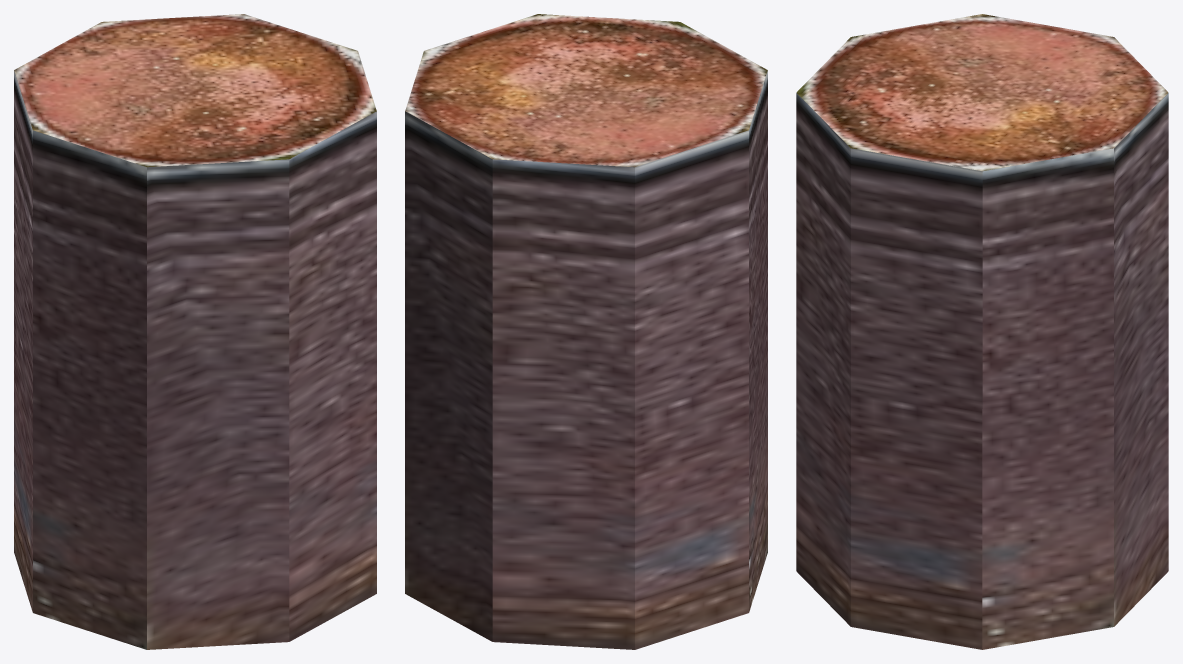
The model's file is barrel.fbx.
3 views of the same model, side by side, from view 1: azimuth 30°, elevation 25°; view 2: azimuth 150°, elevation 25°; view 3: azimuth 270°, elevation 25° (orthographic).
Visible parts, largest first — view 1: Barrel; view 2: Barrel; view 3: Barrel.
Boxes of the visible parts, left/top/right/bottom form: Barrel: left=14, top=14, right=376, bottom=649; Barrel: left=405, top=14, right=767, bottom=649; Barrel: left=796, top=14, right=1168, bottom=649.
Size of the model in its own units: 200 by 284 by 200.
